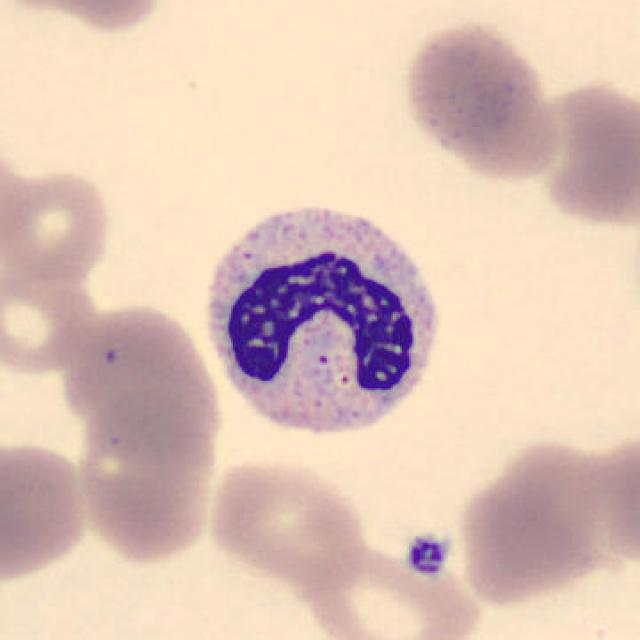Neutrophil: (192, 190, 453, 455)
Platelets: (402, 529, 452, 578)
RBC: (452, 434, 620, 610), (398, 16, 566, 185), (60, 298, 226, 465), (73, 404, 226, 566), (204, 455, 368, 591), (294, 536, 486, 640), (528, 74, 638, 231), (0, 160, 117, 292), (0, 434, 94, 585), (541, 434, 640, 572), (0, 258, 107, 382), (10, 0, 170, 35)
